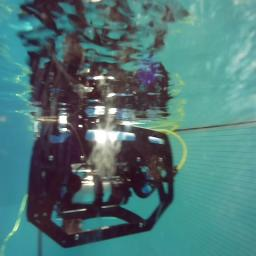Side: (26, 118, 174, 246)
